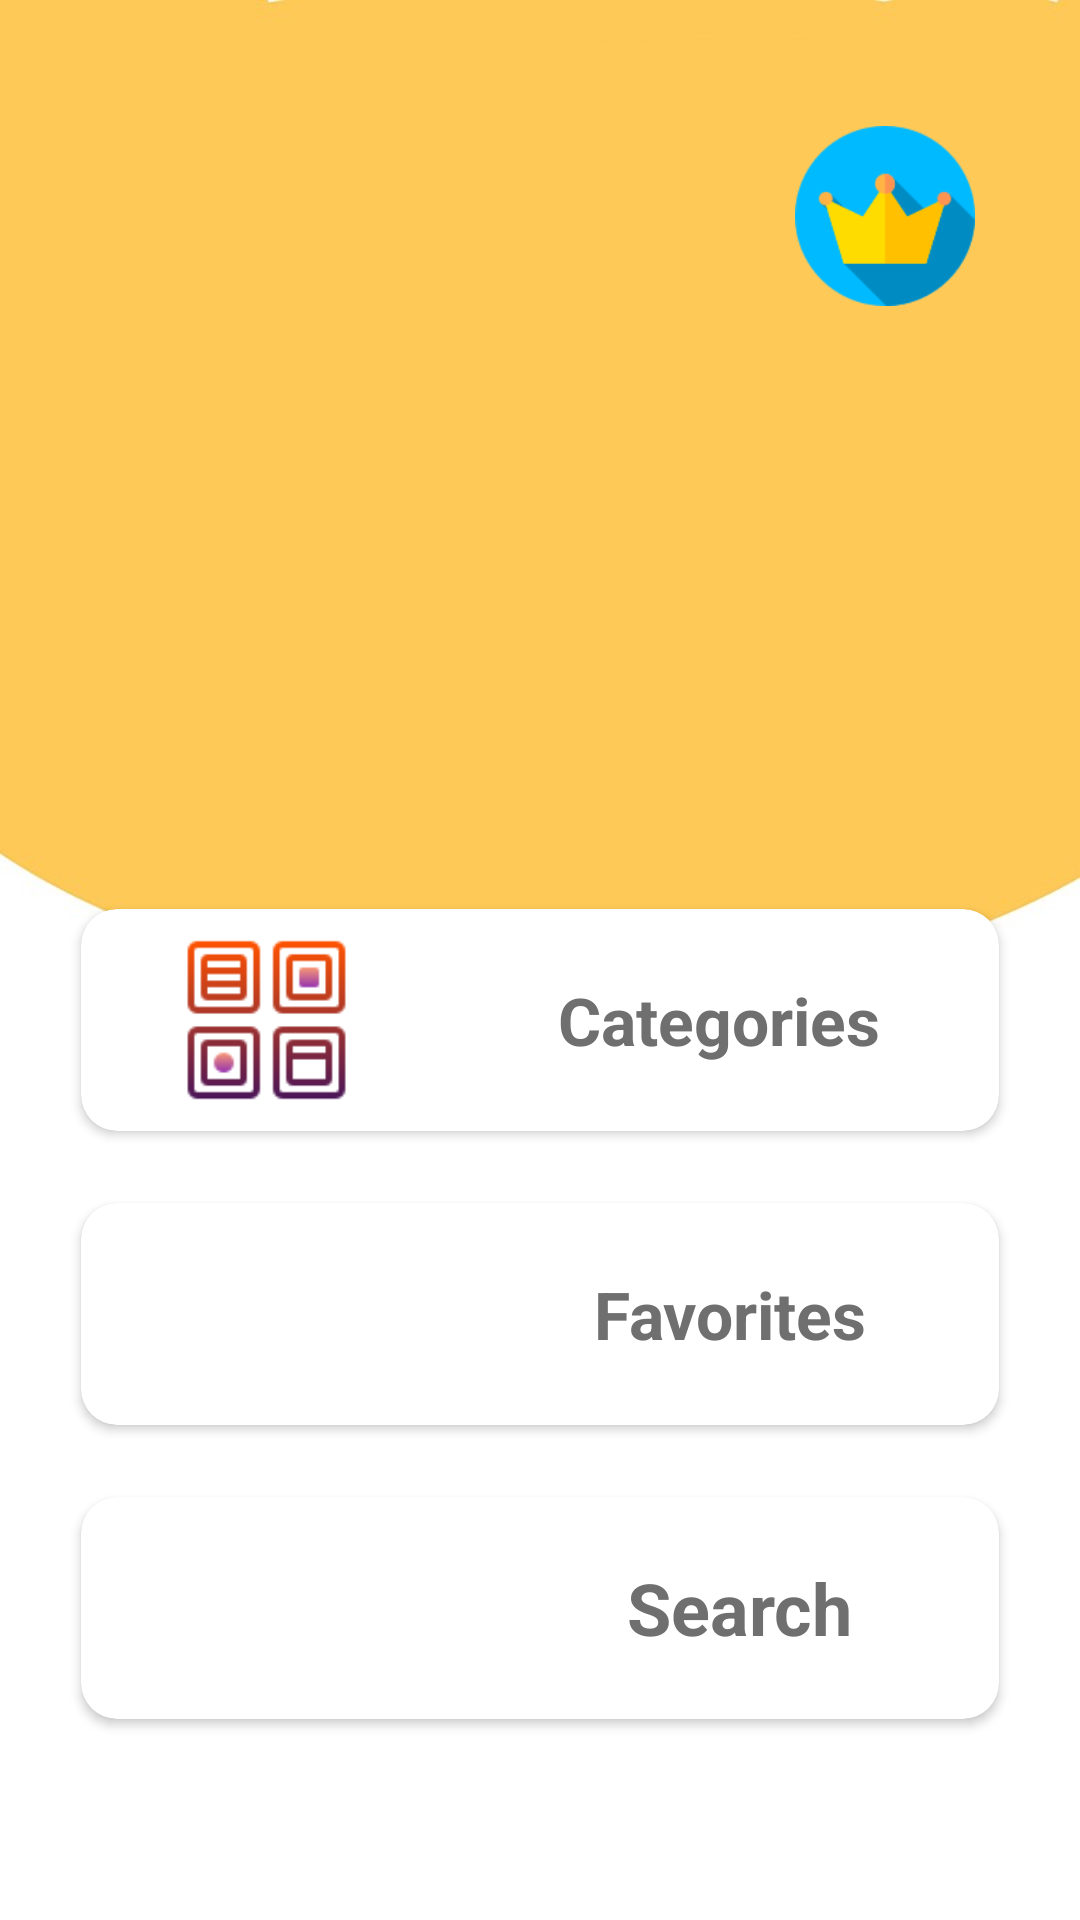

Screen size 1080px x 1920px. Icon name, then its box in pixels as (x1=x1, y1=y1, x2=x2, y2=y2):
crown: (x1=795, y1=126, x2=975, y2=306)
